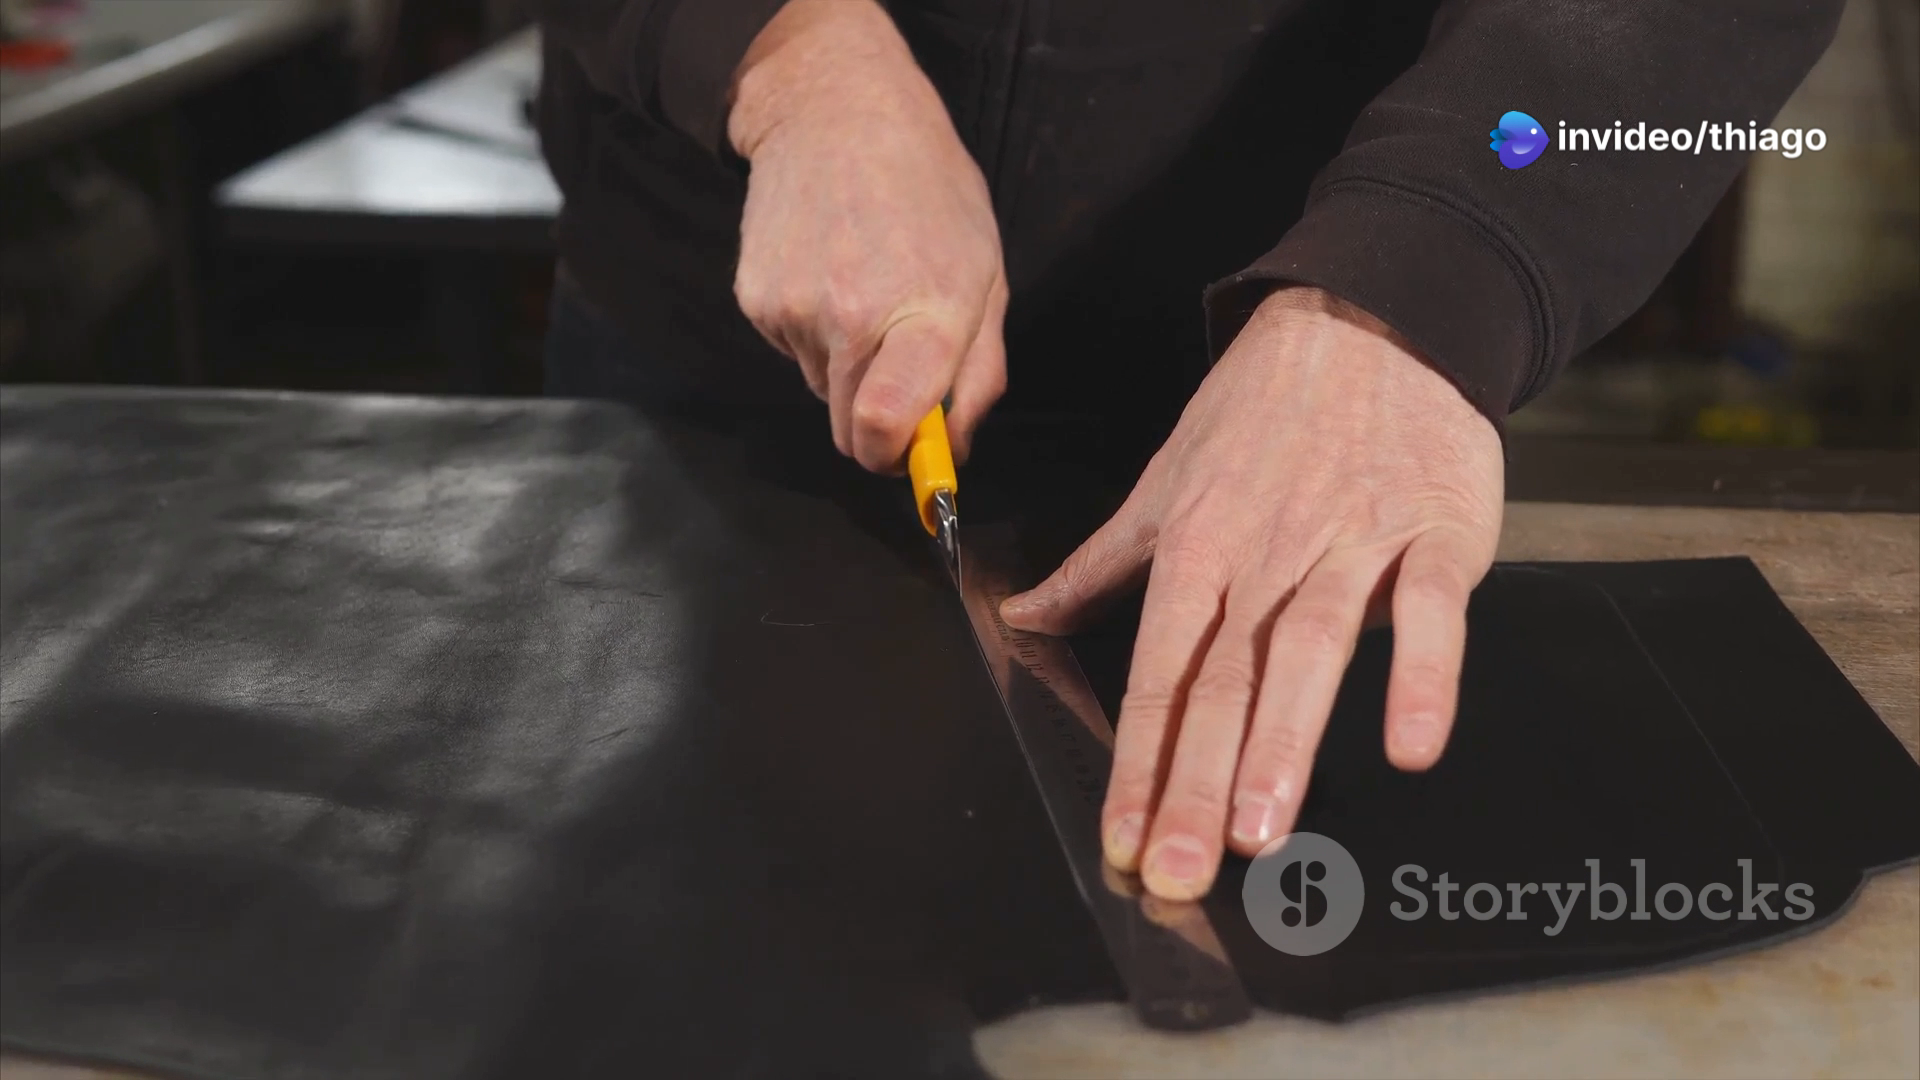cortante: (930, 487, 964, 597)
